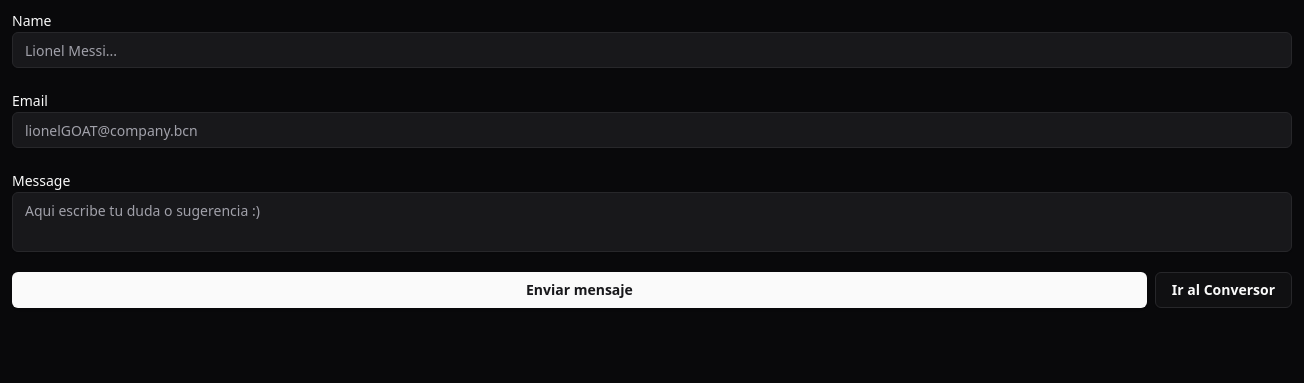
Scenario: Contact Form Component - Errors Validation › Verifica que se muestren mensajes de error al enviar el formulario con campos vacíos
Click the button "Enviar mensaje" at (579, 290), box [12, 272, 1147, 308]
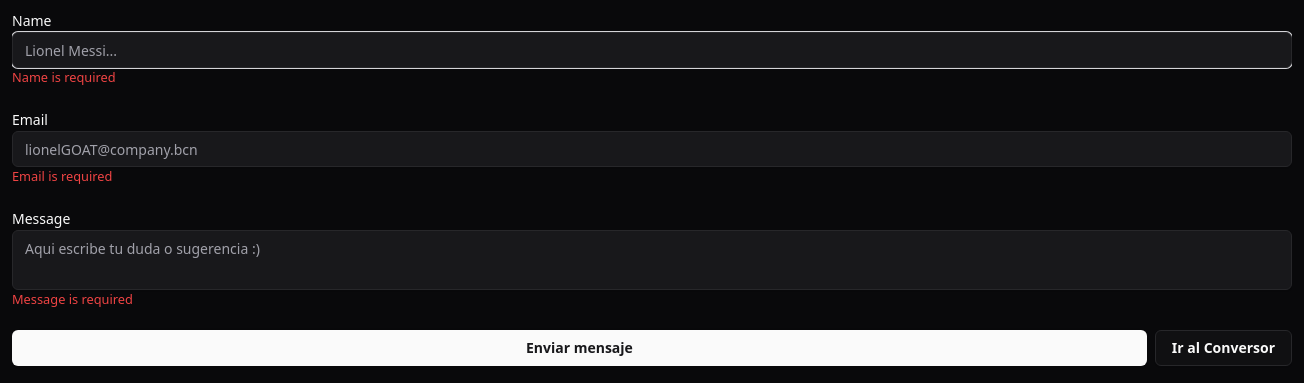
Expected: the text "Name is required" is shown, [12, 68, 116, 86]
Expected: the text "Email is required" is shown, [12, 167, 112, 185]
Expected: the text "Message is required" is shown, [12, 290, 133, 308]
